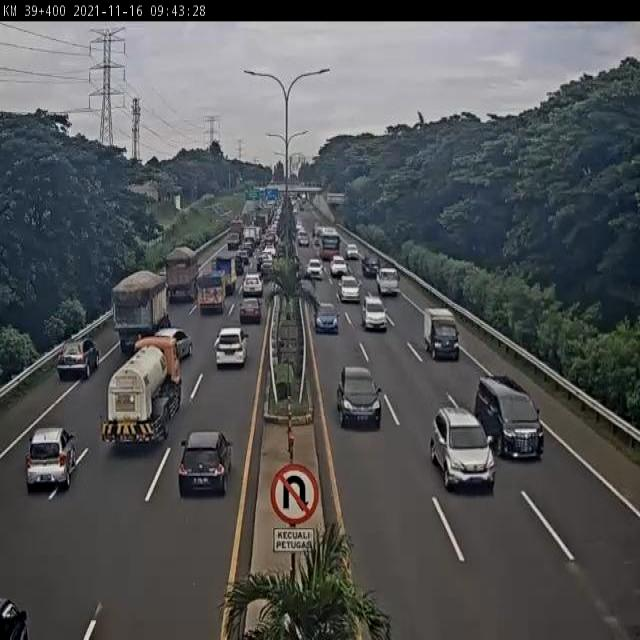Car: (472, 368, 556, 474), (431, 404, 495, 489), (178, 430, 232, 496), (25, 426, 77, 492), (337, 365, 382, 429), (56, 338, 100, 380), (214, 326, 249, 369), (361, 294, 387, 332), (314, 300, 340, 334), (376, 268, 399, 298), (239, 298, 262, 325), (339, 275, 361, 303), (242, 273, 264, 298), (330, 255, 348, 278), (270, 202, 282, 235), (362, 255, 379, 278), (259, 254, 275, 277), (306, 258, 323, 279), (236, 248, 250, 272), (242, 238, 256, 258), (298, 232, 310, 248), (346, 244, 358, 260), (295, 198, 305, 212), (295, 220, 302, 233), (292, 203, 298, 214)
Truck: (101, 337, 184, 447), (111, 270, 168, 357), (418, 296, 465, 361), (164, 247, 199, 306), (196, 270, 227, 315), (228, 217, 245, 249), (254, 211, 268, 232), (263, 233, 276, 252), (274, 242, 286, 259), (256, 251, 266, 270), (292, 252, 300, 274), (314, 223, 324, 238), (283, 191, 292, 204), (257, 200, 268, 210), (267, 198, 276, 208), (302, 193, 306, 200)
